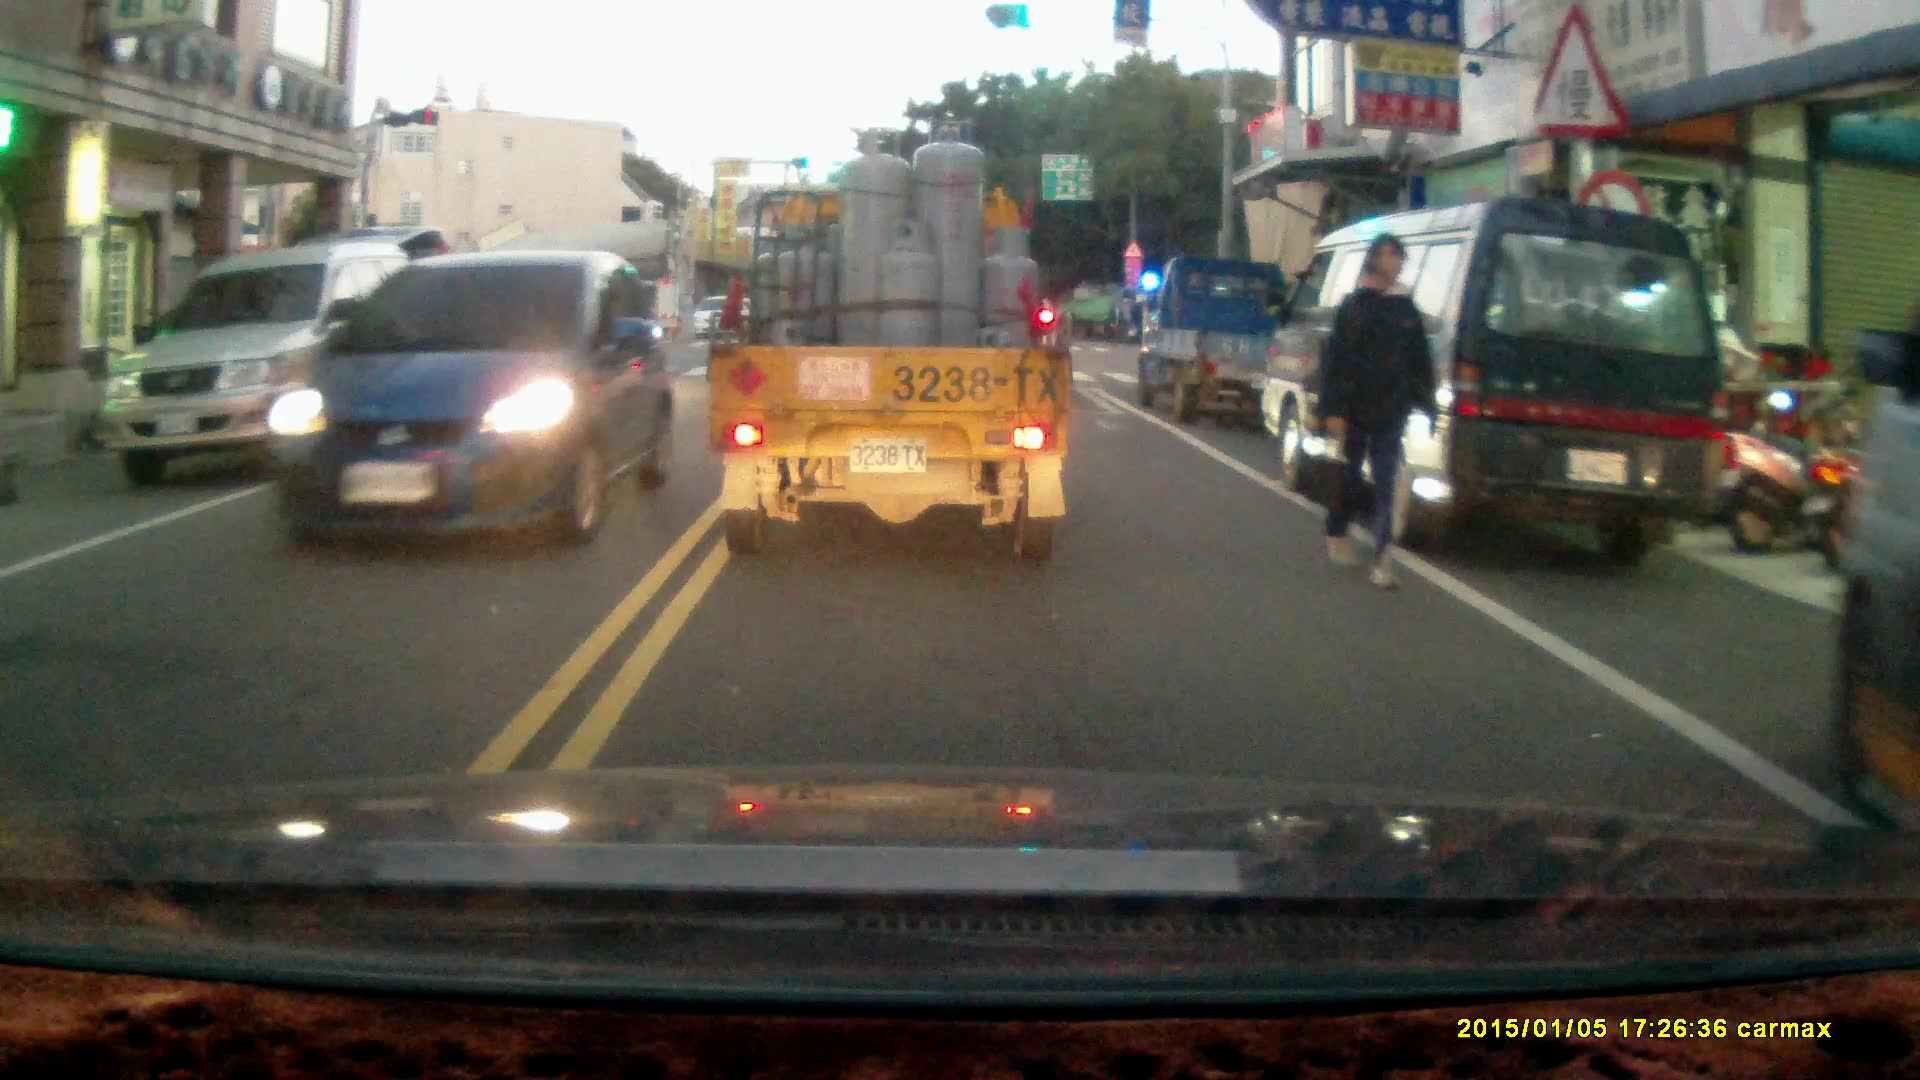pedestrian: (1315, 231, 1439, 591)
vehicle: (1263, 195, 1724, 569), (706, 120, 1072, 554), (248, 247, 680, 551), (97, 241, 444, 491), (325, 293, 549, 425), (1124, 246, 1288, 415)
